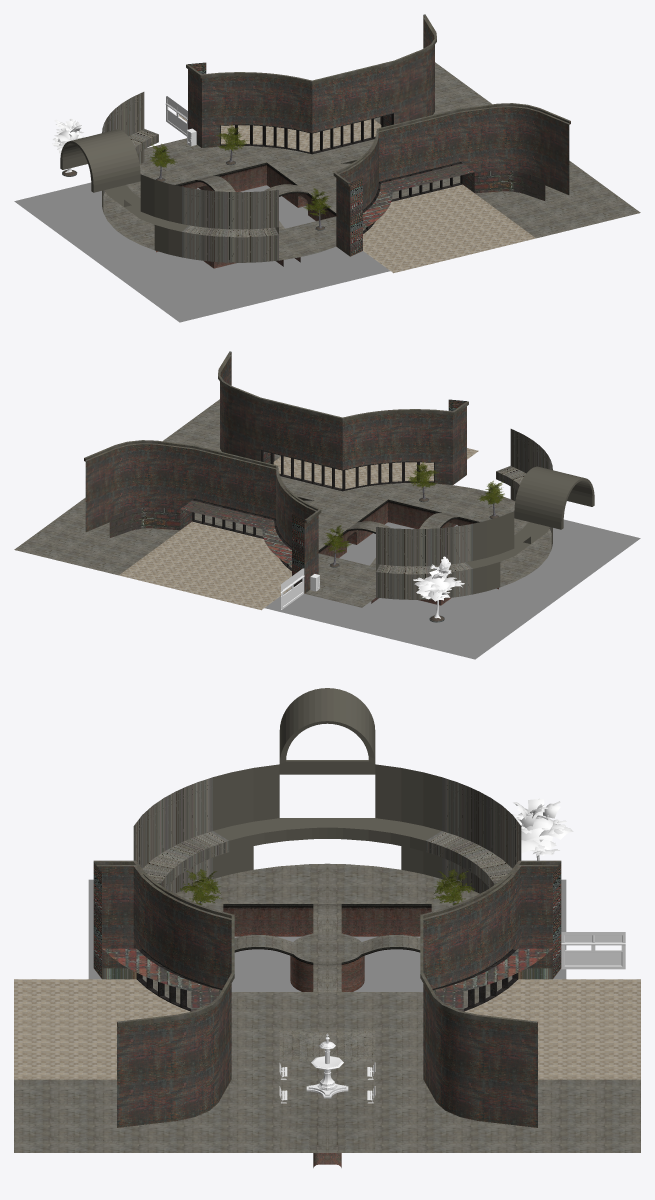
Rendered from main.glb.
The picture shows the model from 3 angles, top to bottom: view 1: azimuth 30°, elevation 25°; view 2: azimuth 150°, elevation 25°; view 3: azimuth 270°, elevation 25°; orthographic projection. The views are drawn at different scales.
Visible parts, largest first — view 1: Center.001, Water, Center.007, Center.003, Center, Center.002, Center.006, CenterWalls, Center.004, Sphere.004, tree_small, ravendoor; view 2: Center.001, Water, Center.007, Center.003, Center, Center.002, Center.006, CenterWalls, Center.004, Sphere.004, tree_small, ravendoor; view 3: Center.001, Center.002, Center.007, Center.003, Center, Water, CenterWalls, Center.006, ravendoor, tree_small, Center.004, Sphere.004 (+2 smaller).
Part boxes in pixels (left/top/right/bottom): Center.001: left=188, top=15, right=570, bottom=256; Water: left=14, top=182, right=390, bottom=322; Center.007: left=60, top=92, right=278, bottom=262; Center.003: left=179, top=114, right=535, bottom=273; Center: left=103, top=138, right=365, bottom=260; Center.002: left=313, top=62, right=640, bottom=238; Center.006: left=186, top=14, right=570, bottom=185; CenterWalls: left=175, top=162, right=336, bottom=268; Center.004: left=220, top=113, right=462, bottom=233; Sphere.004: left=150, top=125, right=330, bottom=228; tree_small: left=52, top=119, right=83, bottom=172; ravendoor: left=165, top=96, right=187, bottom=136; Center.001: left=84, top=352, right=466, bottom=593; Water: left=264, top=519, right=640, bottom=659; Center.007: left=376, top=429, right=594, bottom=599; Center.003: left=119, top=448, right=478, bottom=610; Center: left=289, top=483, right=551, bottom=607; Center.002: left=14, top=399, right=341, bottom=575; Center.006: left=84, top=351, right=468, bottom=522; CenterWalls: left=318, top=499, right=479, bottom=605; Center.004: left=192, top=450, right=434, bottom=570; Sphere.004: left=324, top=462, right=504, bottom=565; tree_small: left=413, top=556, right=464, bottom=618; ravendoor: left=280, top=568, right=304, bottom=609; Center.001: left=93, top=862, right=561, bottom=1127; Center.002: left=14, top=1022, right=640, bottom=1152; Center.007: left=133, top=688, right=521, bottom=893; Center.003: left=14, top=979, right=640, bottom=1079; Center: left=142, top=863, right=512, bottom=1032; Water: left=88, top=879, right=566, bottom=991; CenterWalls: left=223, top=904, right=431, bottom=964; Center.006: left=93, top=860, right=561, bottom=1027; ravendoor: left=561, top=932, right=625, bottom=969; tree_small: left=512, top=798, right=573, bottom=860; Center.004: left=136, top=949, right=518, bottom=1011; Sphere.004: left=180, top=869, right=474, bottom=905.
Bounding box in the file's own units: 68.19 × 17.68 × 56.44.
18 materials, 12 textured.
